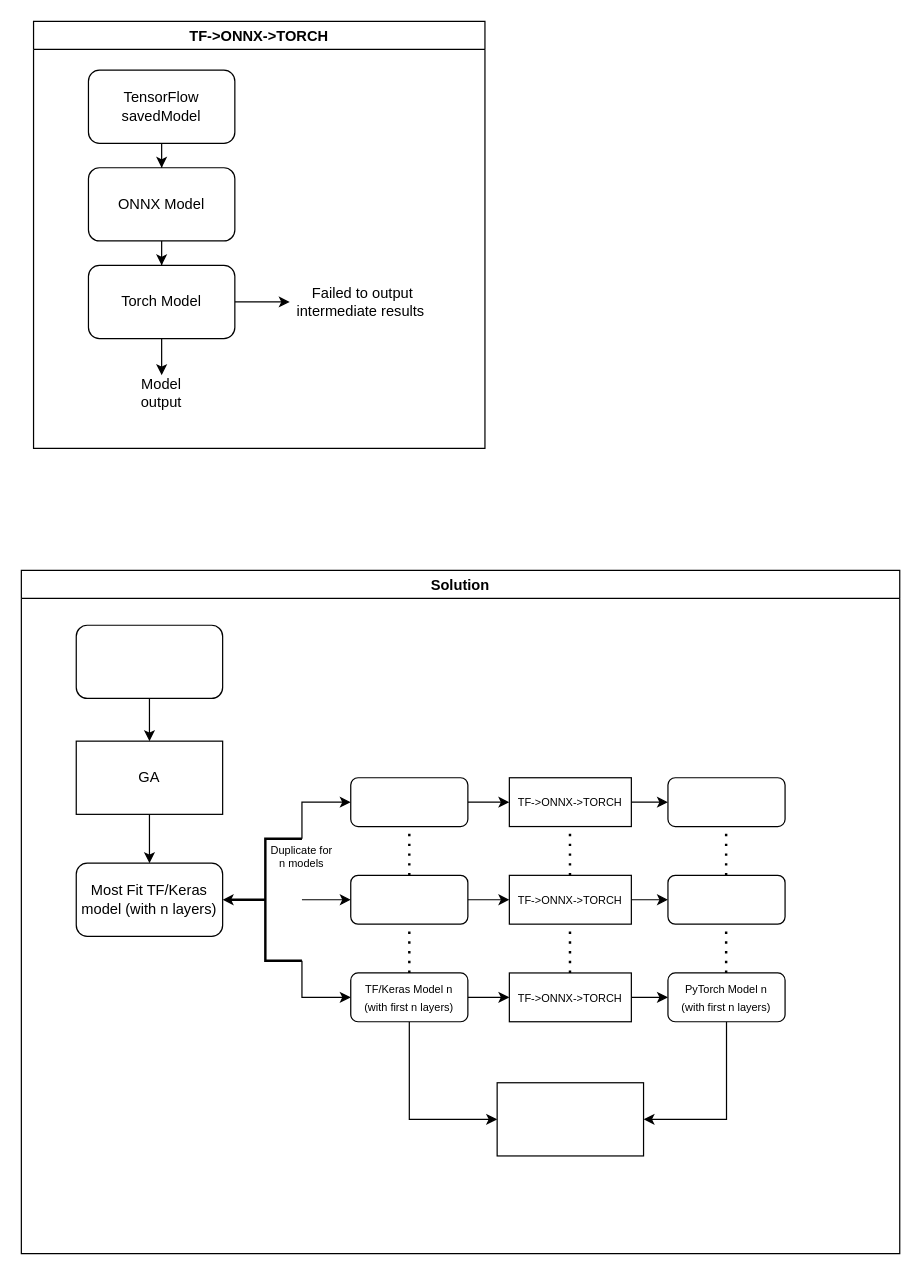
Image size: 921x1275. Some labels were removed from this diagram. Here are the shapes that lost their labels. From the top down, the centre of each, then its label:
At [149,661]: "TF/Keras model with n layers".
At [409,802]: "TF/Keras Model 1 (with first 1 layer)".
At [726,802]: "PyTorch Model 1 (with first 1 layer)".
At [409,899]: "TF/Keras Model i (with first i layers)".
At [726,899]: "PyTorch Model i (with first i layers)".
At [570,1119]: "Compare outputs".
